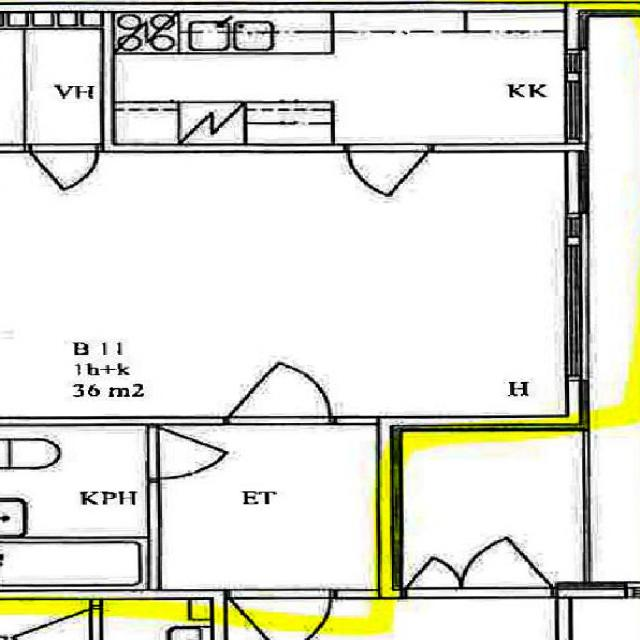door: (226, 350, 330, 424), (229, 589, 329, 640), (348, 143, 428, 203), (147, 428, 239, 477), (29, 143, 98, 196)
